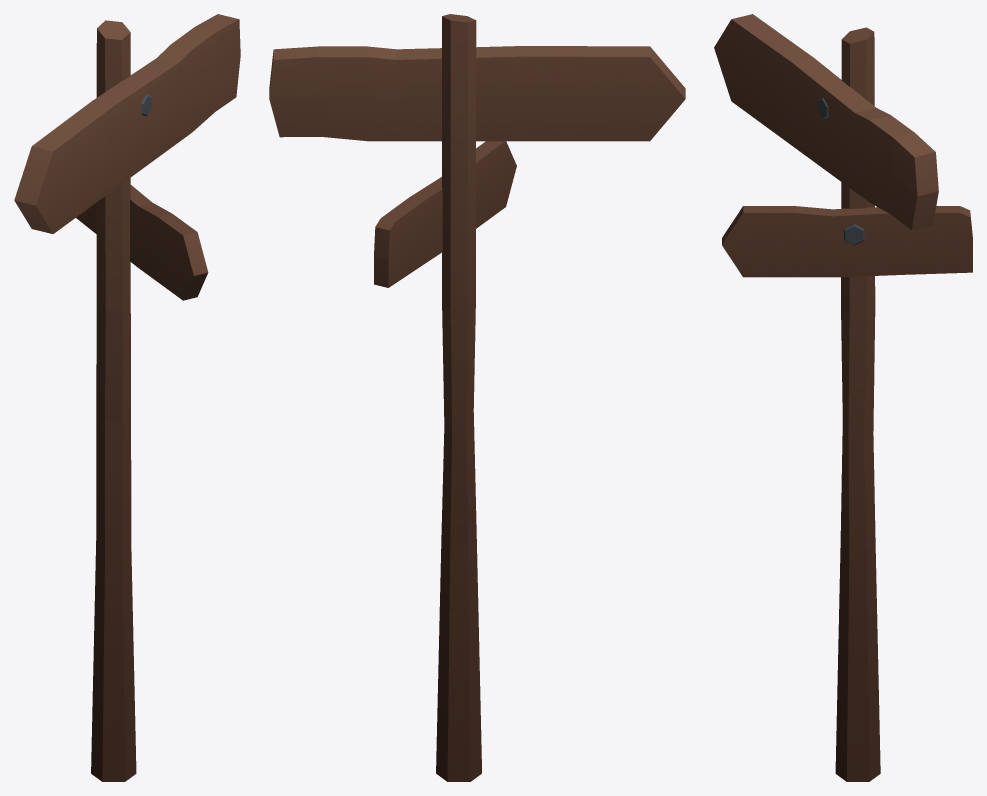
Rendered from znak4.fbx.
3 renders of one model, left to right at view 1: azimuth 30°, elevation 25°; view 2: azimuth 150°, elevation 25°; view 3: azimuth 270°, elevation 25°, orthographic. The views are drawn at different scales.
Visible parts, largest first — view 1: znak4; view 2: znak4; view 3: znak4.
Part boxes in pixels (<box>): znak4: <box>14,14,240,781</box>; znak4: <box>269,14,685,781</box>; znak4: <box>714,14,972,781</box>.
Bounding box in the file's own units: 89.57 × 201 × 63.6.
